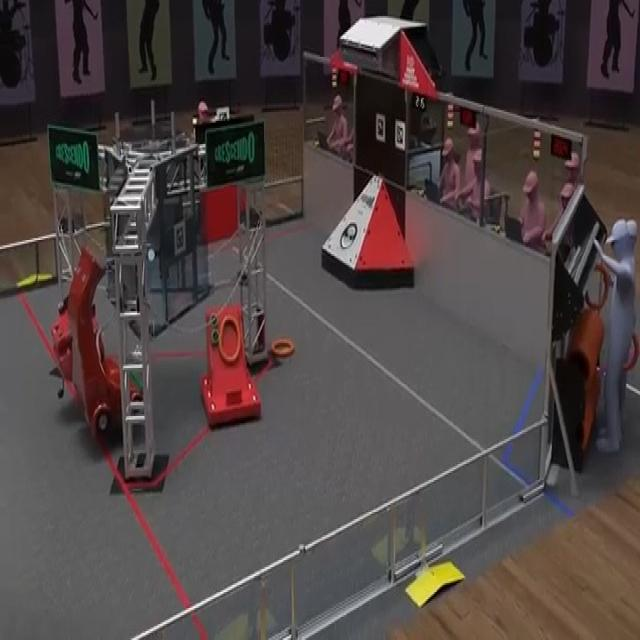notes: (271, 338, 294, 356)
